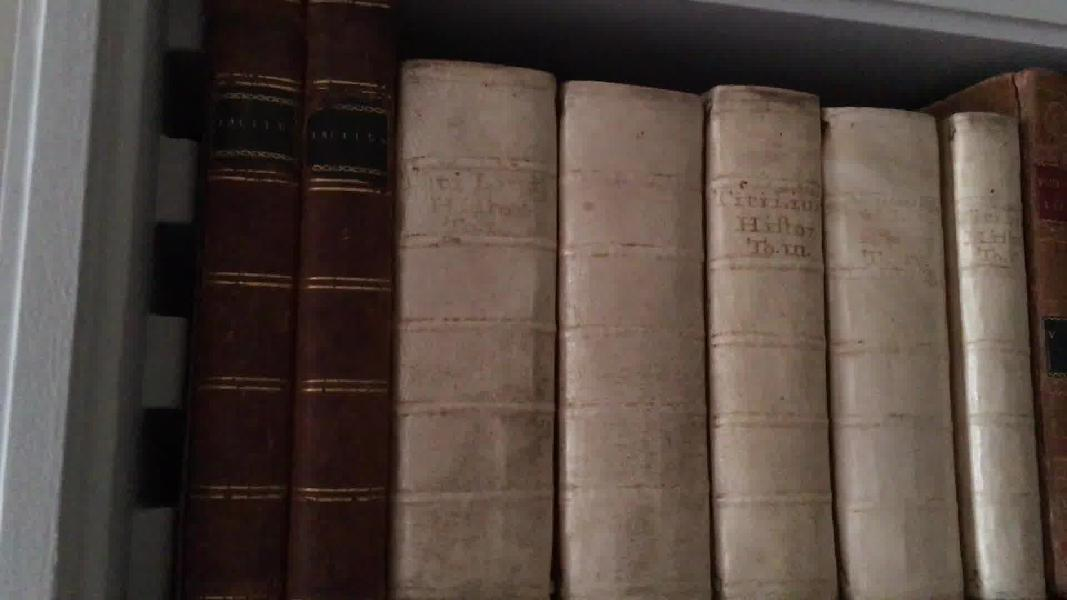Kk4-1_2: (167, 2, 407, 600)
Kk4-3_7: (385, 35, 1059, 600)
